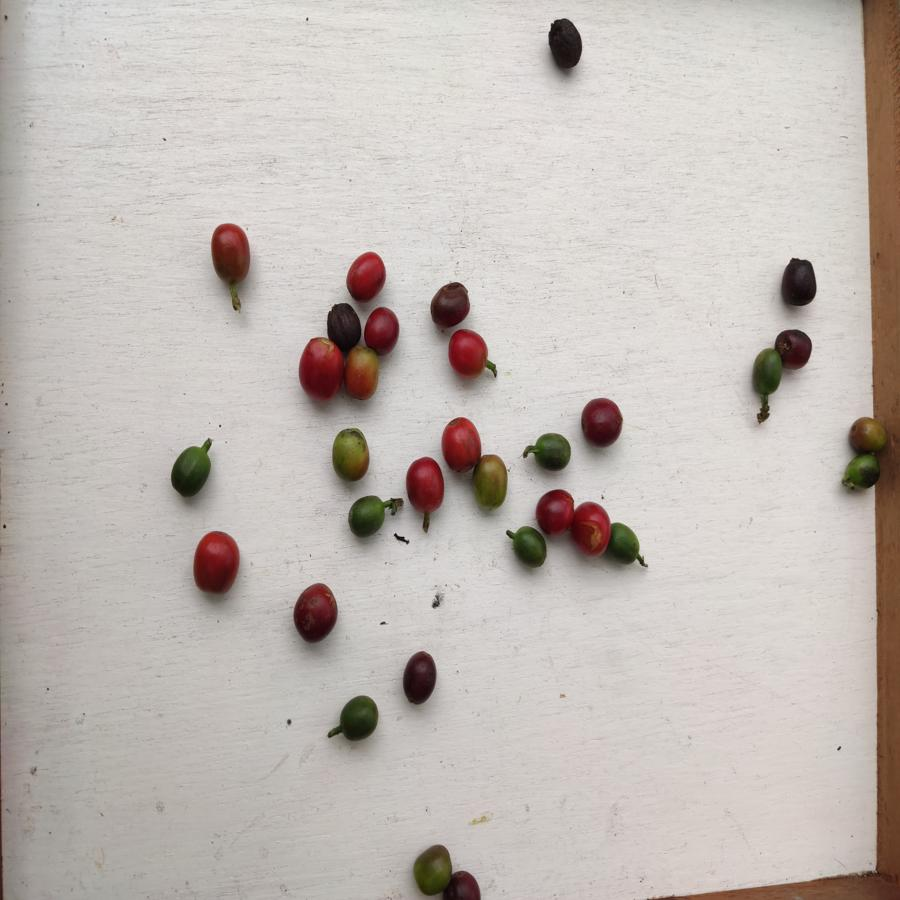Inmaduro: (171, 444, 214, 499), (336, 694, 382, 743), (510, 525, 549, 574), (347, 493, 387, 540), (531, 431, 574, 474), (750, 348, 785, 398), (610, 519, 645, 566), (842, 453, 881, 494)
Maduro: (191, 529, 243, 596), (299, 335, 342, 403), (209, 222, 255, 285), (402, 457, 448, 512), (573, 499, 611, 561), (446, 327, 492, 378), (442, 414, 483, 471), (343, 253, 388, 302), (535, 486, 576, 535), (365, 304, 398, 351)
Pinton: (330, 426, 371, 485), (471, 452, 510, 513), (343, 344, 381, 402), (411, 841, 450, 896), (848, 416, 891, 451)
Sobremaduro: (292, 582, 339, 644), (546, 15, 591, 71), (401, 651, 440, 707), (581, 398, 625, 447), (777, 257, 818, 308), (427, 282, 469, 328), (323, 303, 366, 345), (775, 328, 813, 369), (443, 870, 485, 900)
